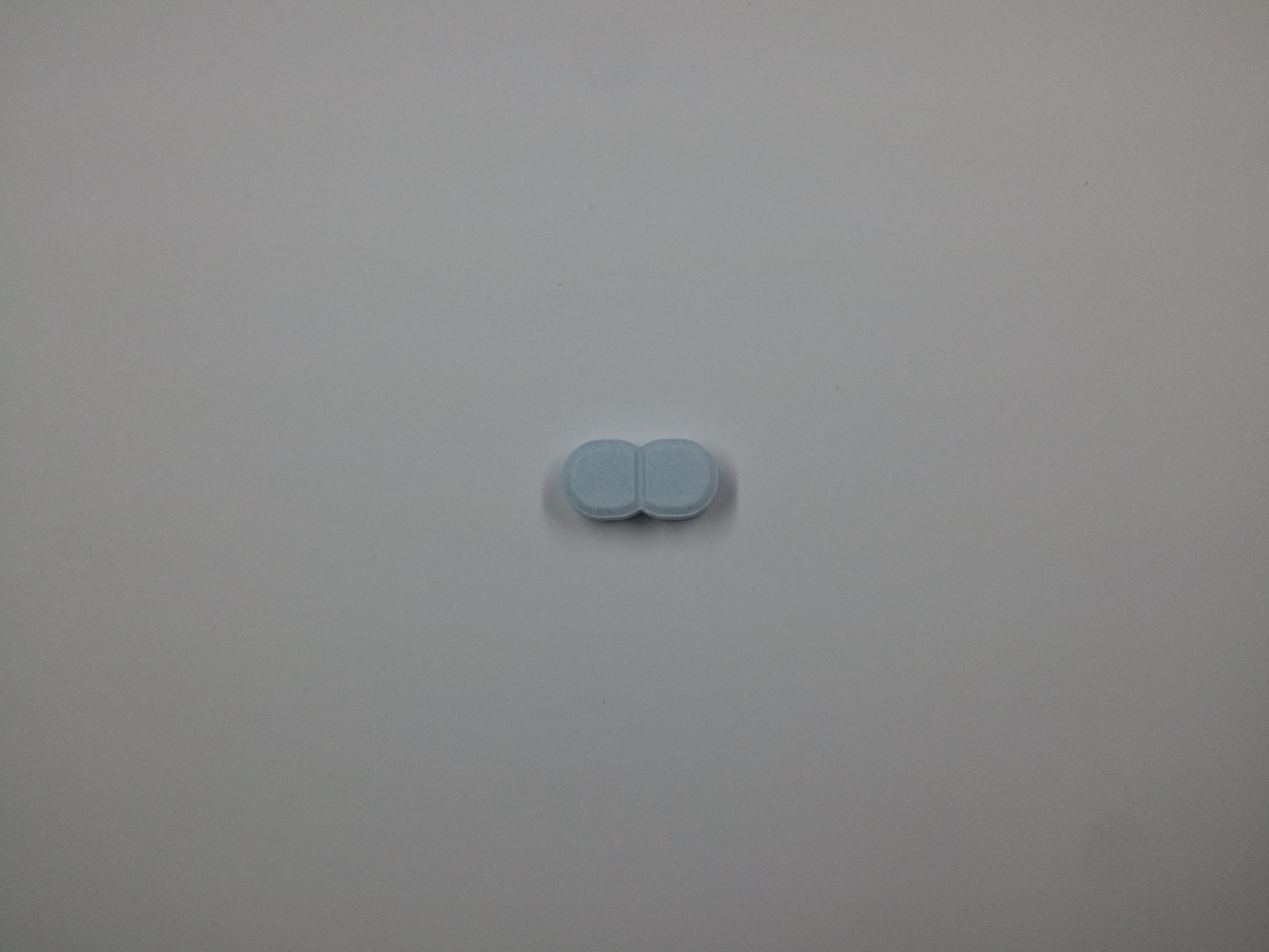Pill: (522, 402, 730, 560)
